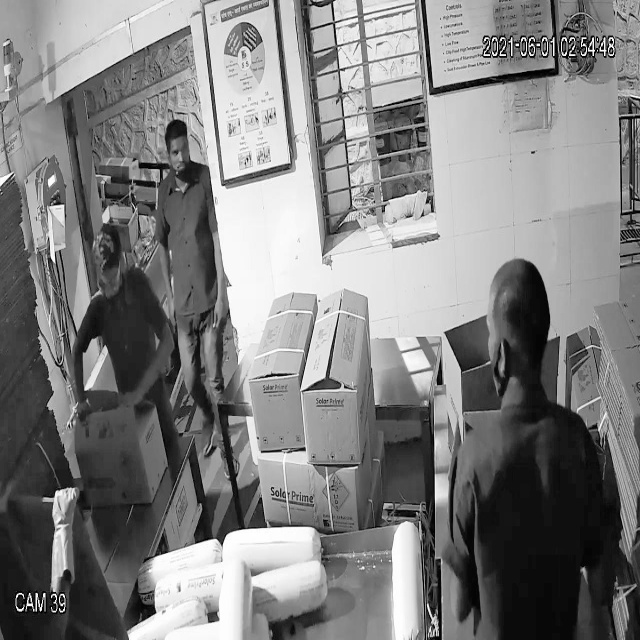Sin_gafas: (158, 132, 196, 168)
